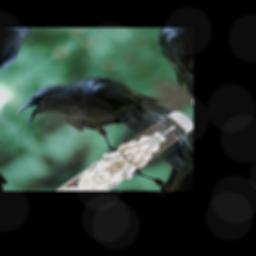Crow: (11, 45, 184, 181)
